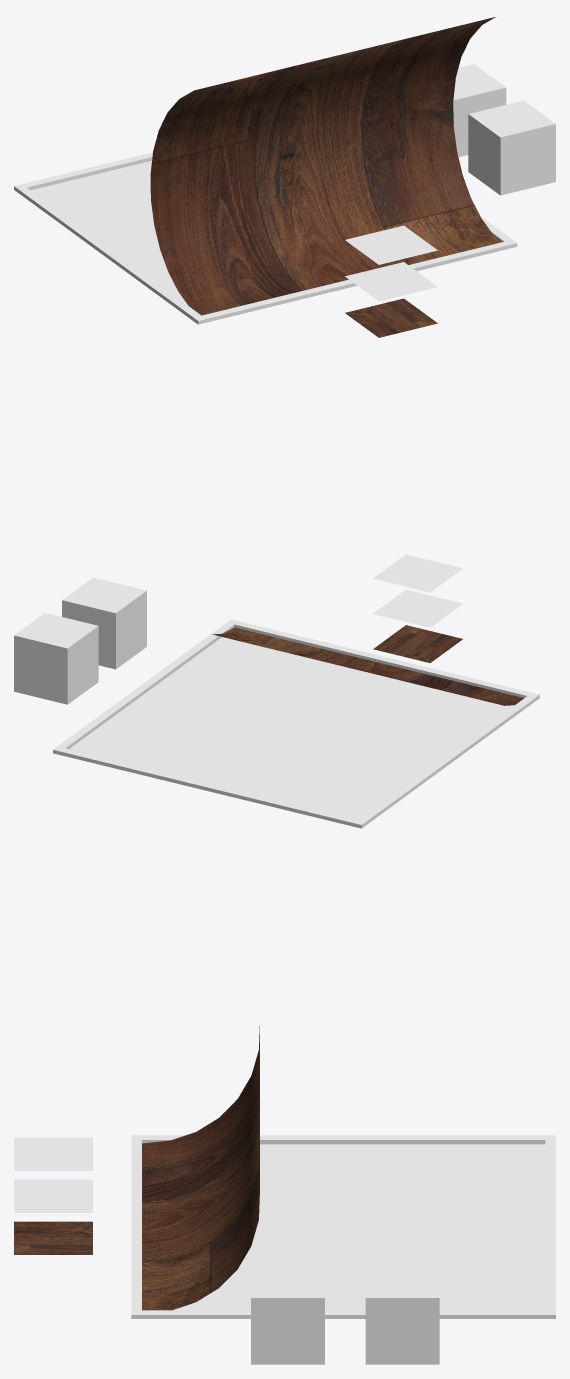
The model's file is RoomDesign.gltf.
The picture shows the model from 3 angles, top to bottom: view 1: azimuth 30°, elevation 25°; view 2: azimuth 150°, elevation 25°; view 3: azimuth 270°, elevation 25°; orthographic projection. The views are drawn at different scales.
Visible parts, largest first — view 1: Backup Chao, Chao.001, Fogao, Borda, Mesa, B_mat2, B_mat3, B_mat1; view 2: Chao.001, Borda, Mesa, Fogao, Backup Chao, B_mat1, B_mat2, B_mat3; view 3: Chao.001, Backup Chao, Borda, Mesa, Fogao, B_mat1, B_mat2, B_mat3.
Boxes of the visible parts, box(x1,y1,x2,y2) form: Backup Chao: box(150, 17, 501, 315); Chao.001: box(31, 161, 187, 305); Fogao: box(468, 100, 555, 195); Borda: box(14, 152, 517, 324); Mesa: box(453, 64, 506, 157); B_mat2: box(345, 262, 437, 301); B_mat3: box(345, 298, 437, 337); B_mat1: box(345, 225, 437, 264); Chao.001: box(69, 637, 514, 819); Borda: box(53, 619, 539, 828); Mesa: box(14, 613, 98, 704); Fogao: box(62, 577, 146, 669); Backup Chao: box(212, 627, 523, 705); B_mat1: box(373, 554, 462, 592); B_mat2: box(373, 589, 462, 627); B_mat3: box(373, 625, 462, 662); Chao.001: box(173, 1144, 545, 1310); Backup Chao: box(142, 1025, 259, 1310); Borda: box(131, 1135, 555, 1318); Mesa: box(365, 1266, 439, 1364); Fogao: box(251, 1266, 324, 1364); B_mat1: box(14, 1137, 92, 1170); B_mat2: box(14, 1179, 92, 1212); B_mat3: box(14, 1221, 92, 1254).
Size of the model in its own units: 7.19 by 4.31 by 7.15.
6 materials, 1 textured.
